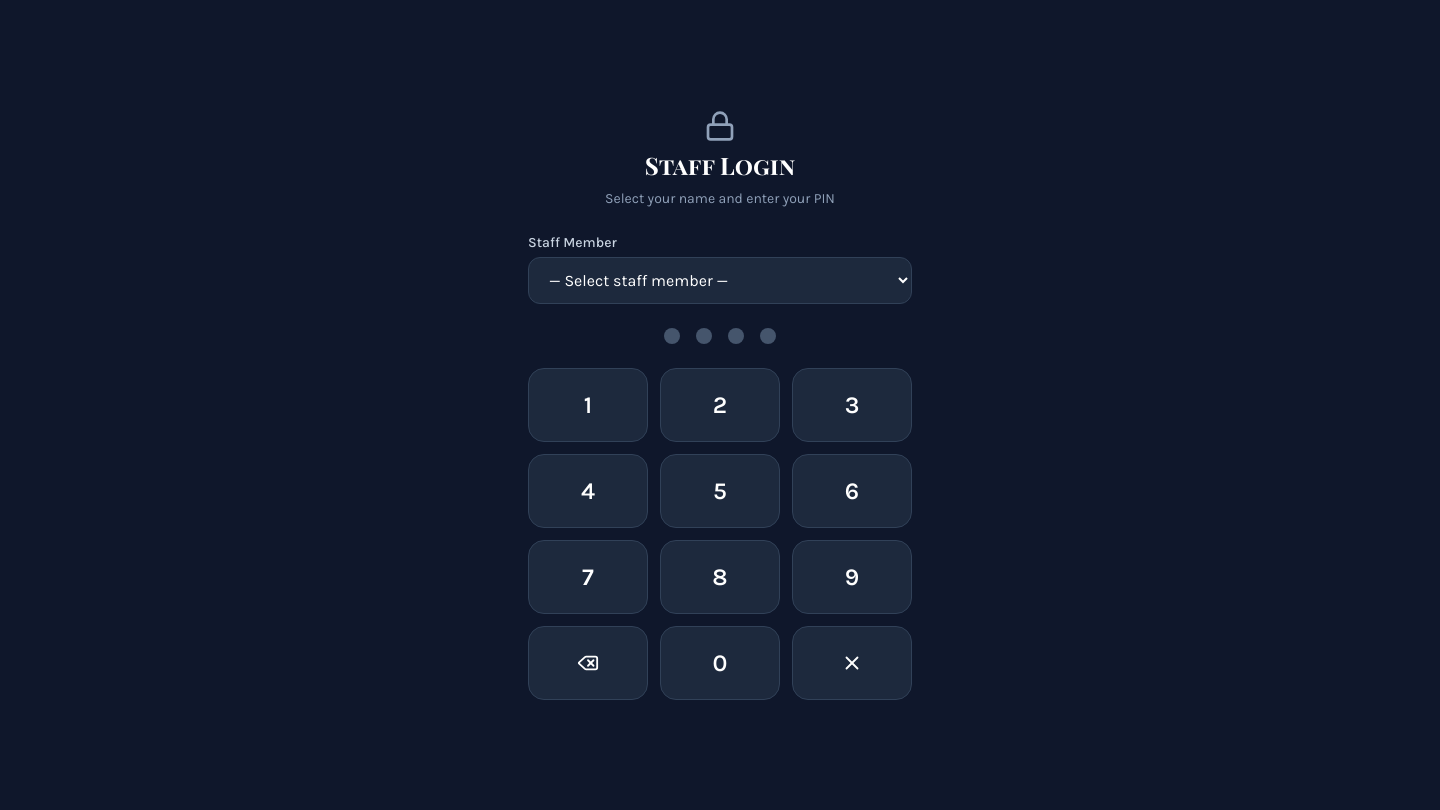
Test: PinLoginScreen › on network error shows generic error message
The width and height of the screenshot is (1440, 810).
Select "Alice" in the dropdown labelled "Staff Member": (720, 281) [528, 257, 912, 304]
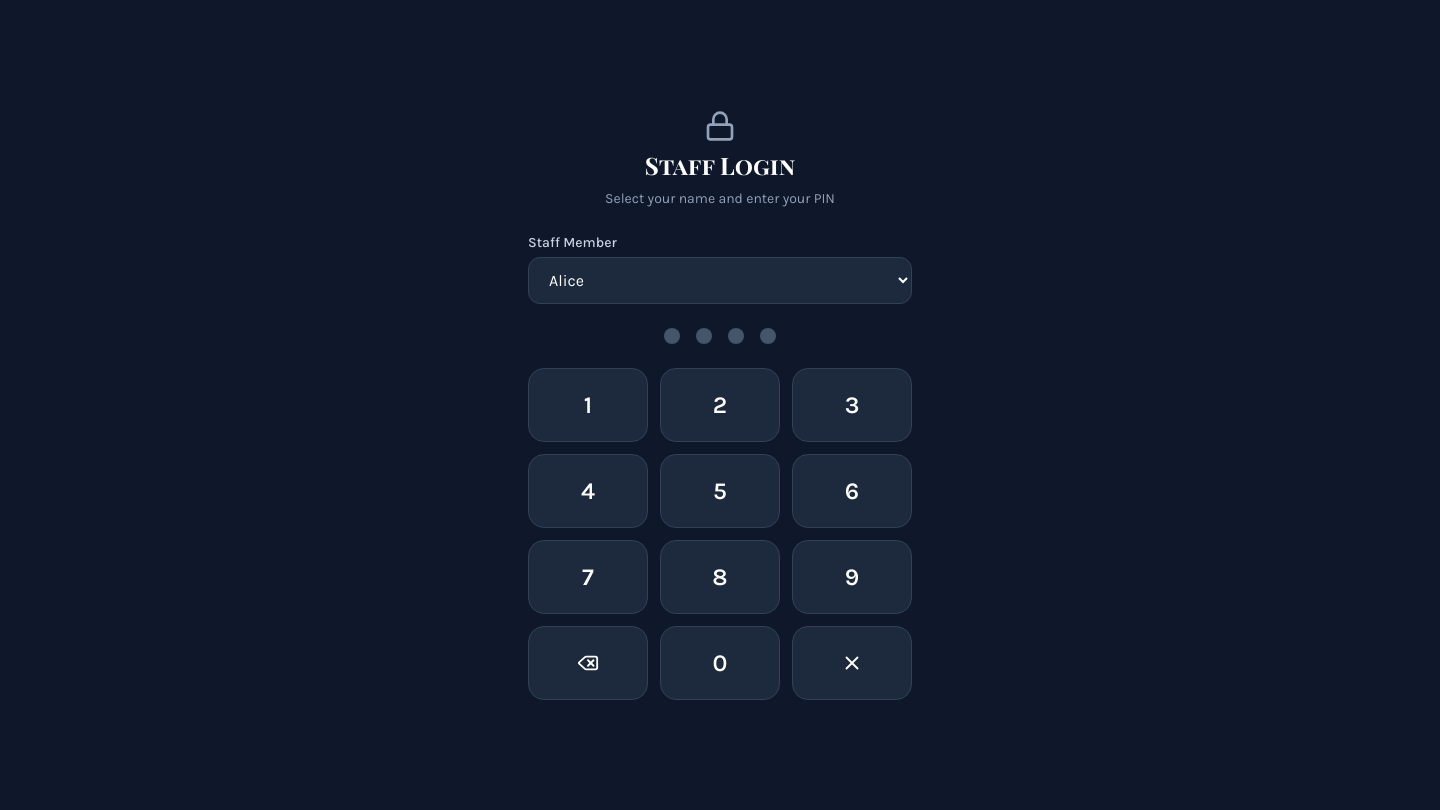
Click the button "1": (588, 405) [528, 368, 648, 442]
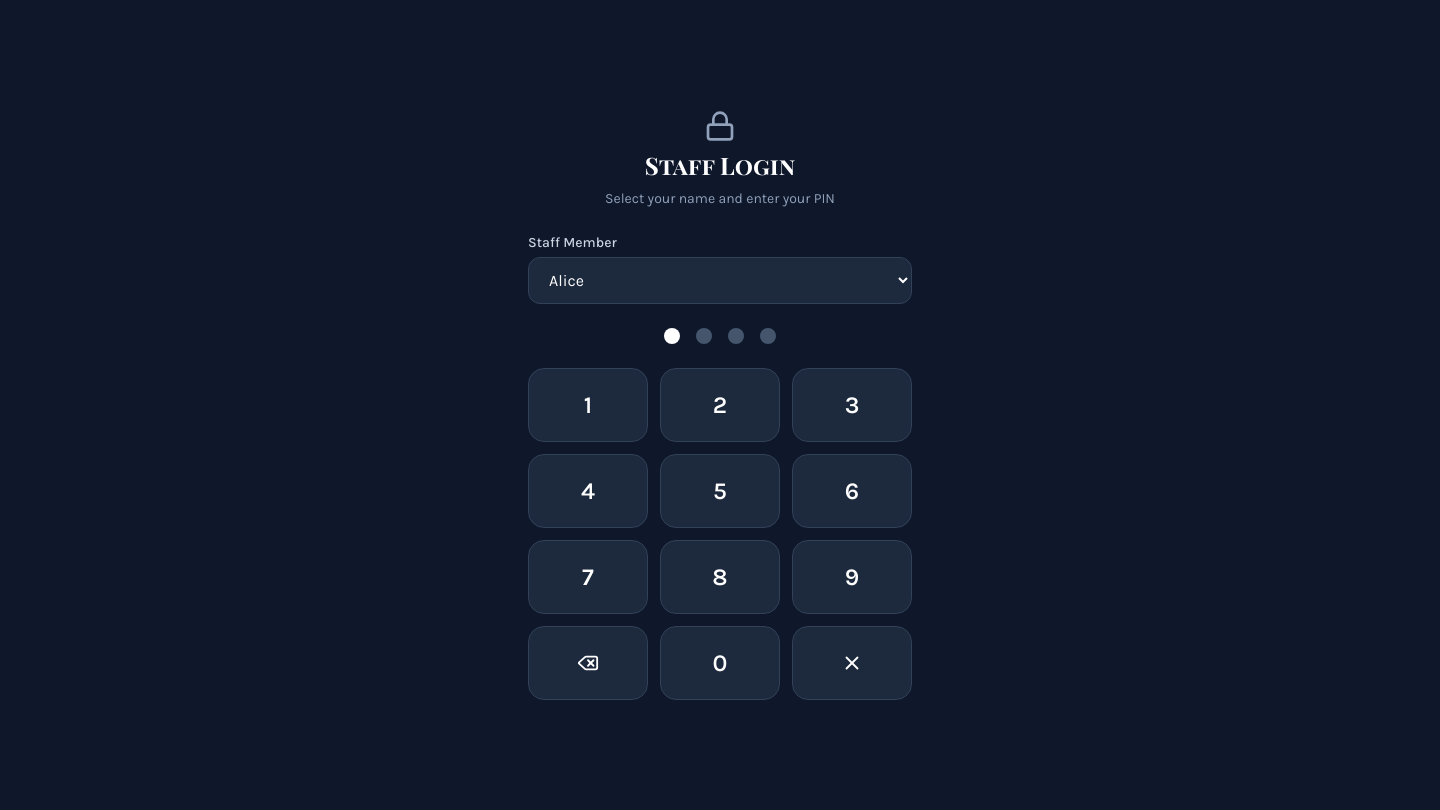
Click the button "2": (720, 405) [660, 368, 780, 442]
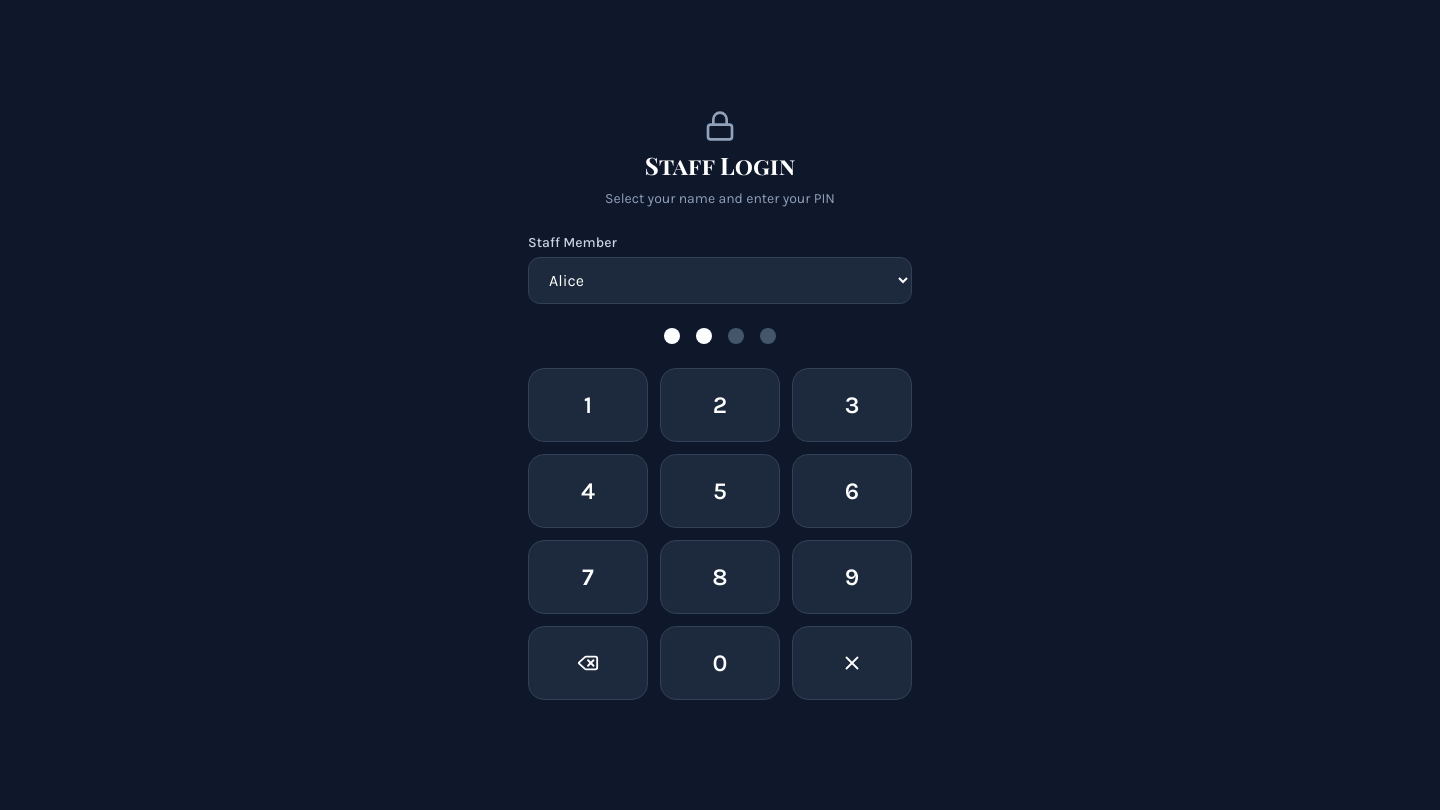
Click the button "3": (852, 405) [792, 368, 912, 442]
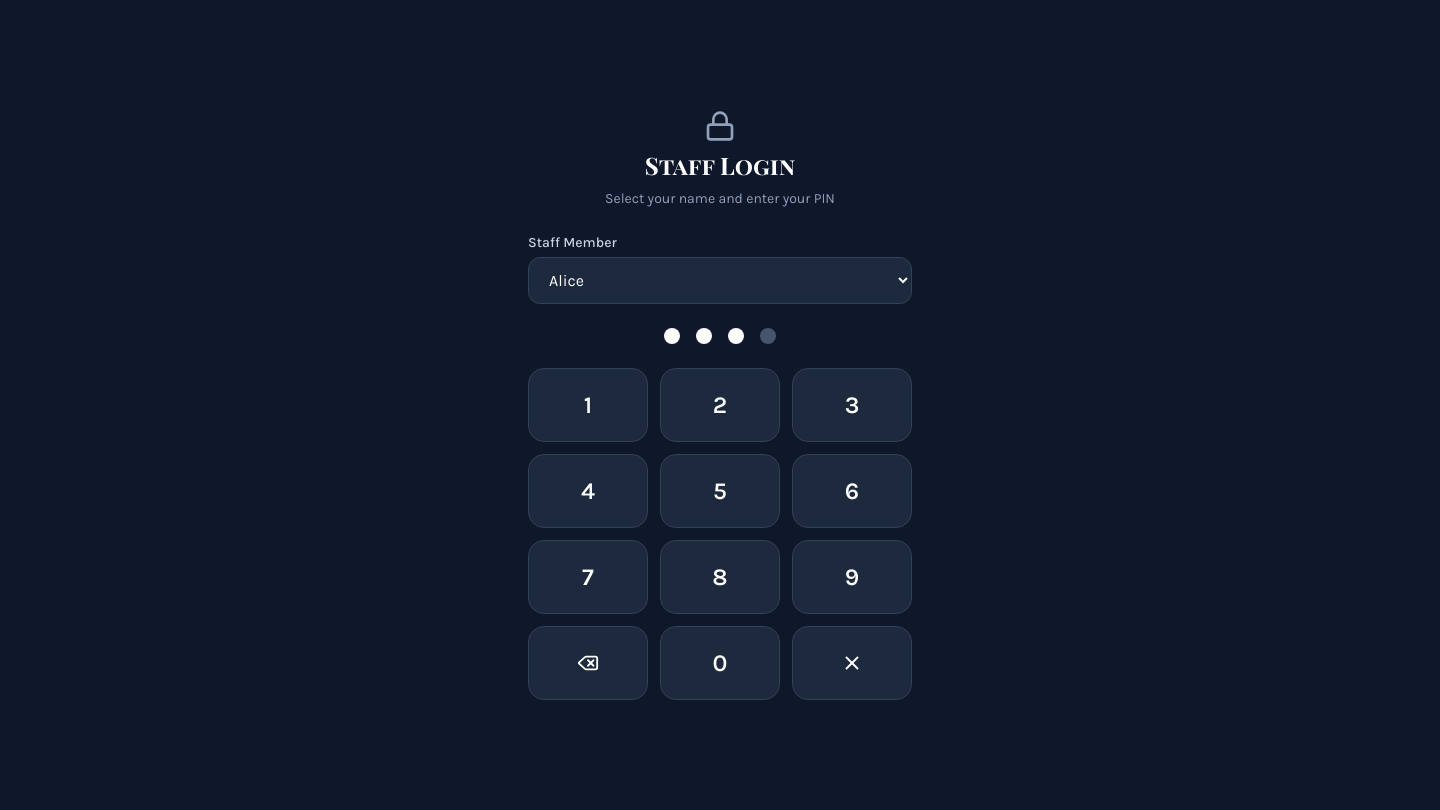
Click the button "4": (588, 491) [528, 454, 648, 528]
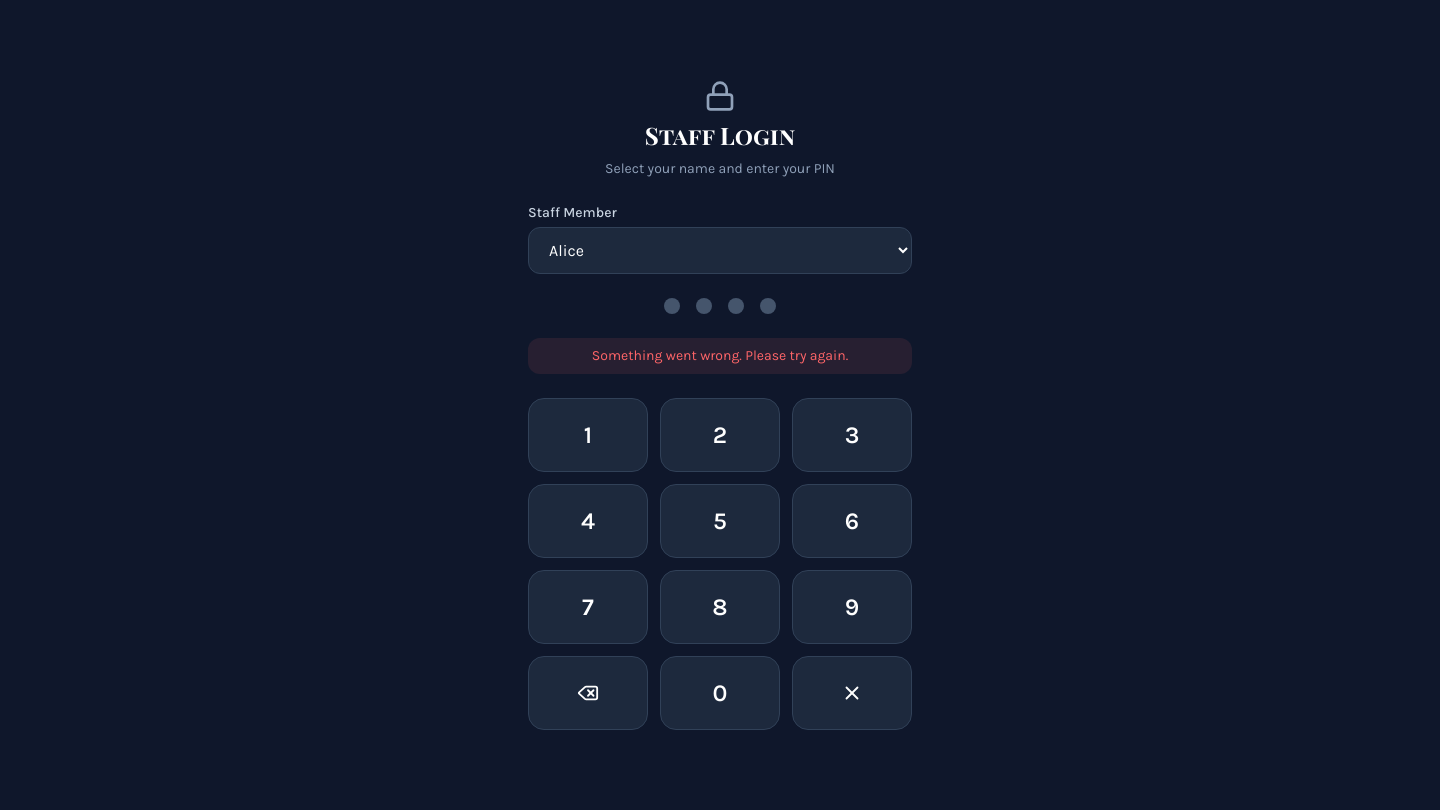
Expected: the message shows "Something went wrong", [592, 347, 848, 364]
